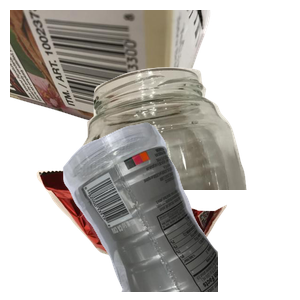cardboard: (10, 10, 213, 146)
glass: (74, 65, 300, 245)
plastic: (60, 120, 300, 300)
trash: (34, 136, 253, 300)
